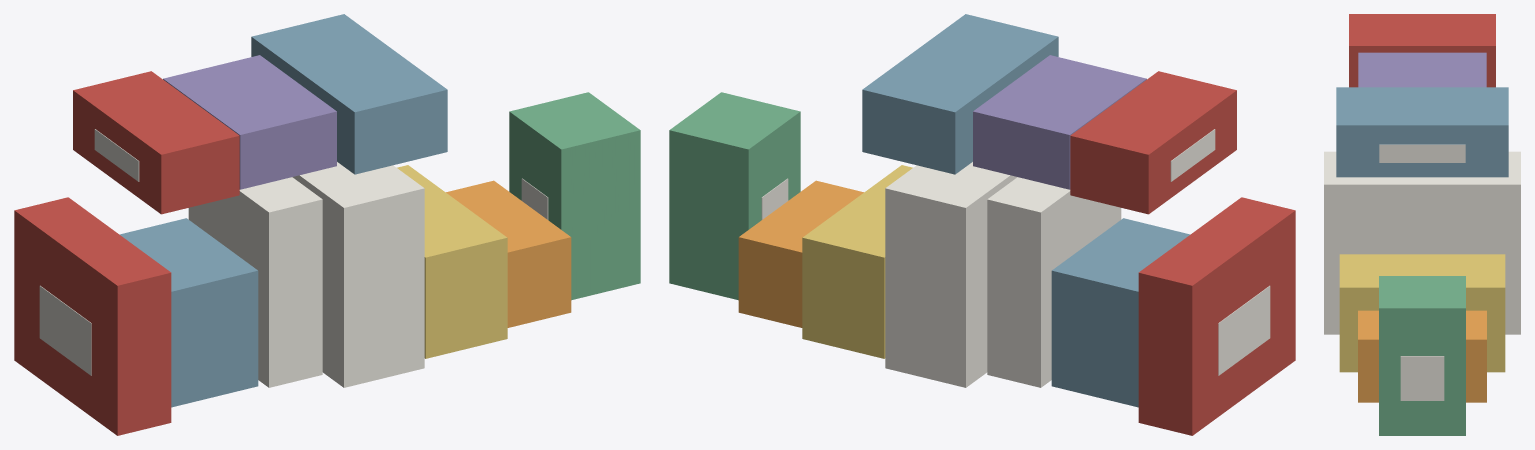
Rendered from med_boxes.fbx.
3 renders of one model, left to right at view 1: azimuth 30°, elevation 25°; view 2: azimuth 150°, elevation 25°; view 3: azimuth 270°, elevation 25°, orthographic. The views are drawn at different scales.
Parts seen in each view (by area): view 1: med_boxes; view 2: med_boxes; view 3: med_boxes.
Part boxes in pixels (left/top/right/bottom): med_boxes: left=14, top=14, right=640, bottom=435; med_boxes: left=669, top=14, right=1295, bottom=435; med_boxes: left=1324, top=14, right=1520, bottom=435.
Bounding box in the file's own units: 53.69 × 24.82 × 19.96.
